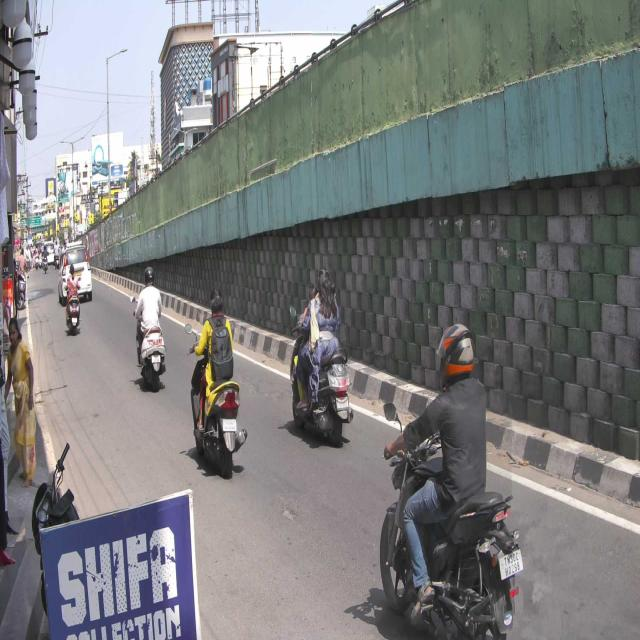single_rider: (379, 322, 522, 640), (184, 284, 248, 484), (288, 264, 354, 450)
